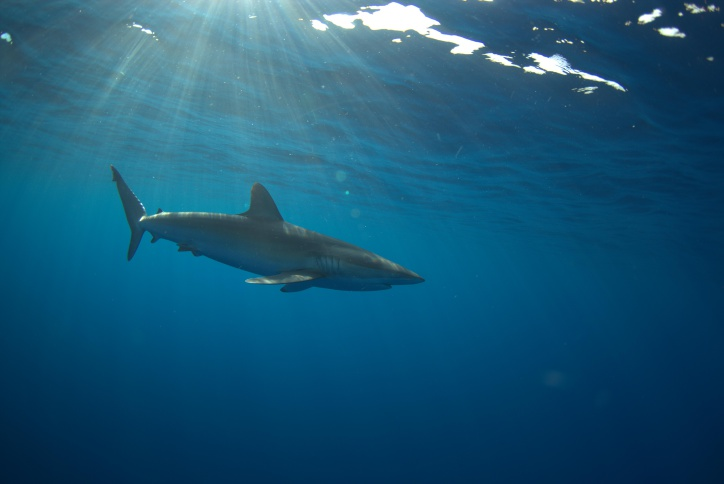Sedoso: (88, 152, 442, 315)
